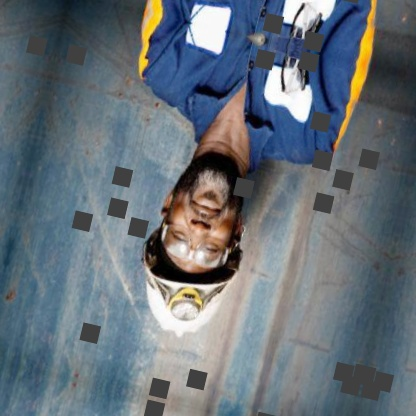white: (114, 225, 251, 357)
